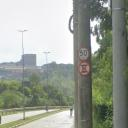speed_limit_50: (78, 46, 89, 61)
